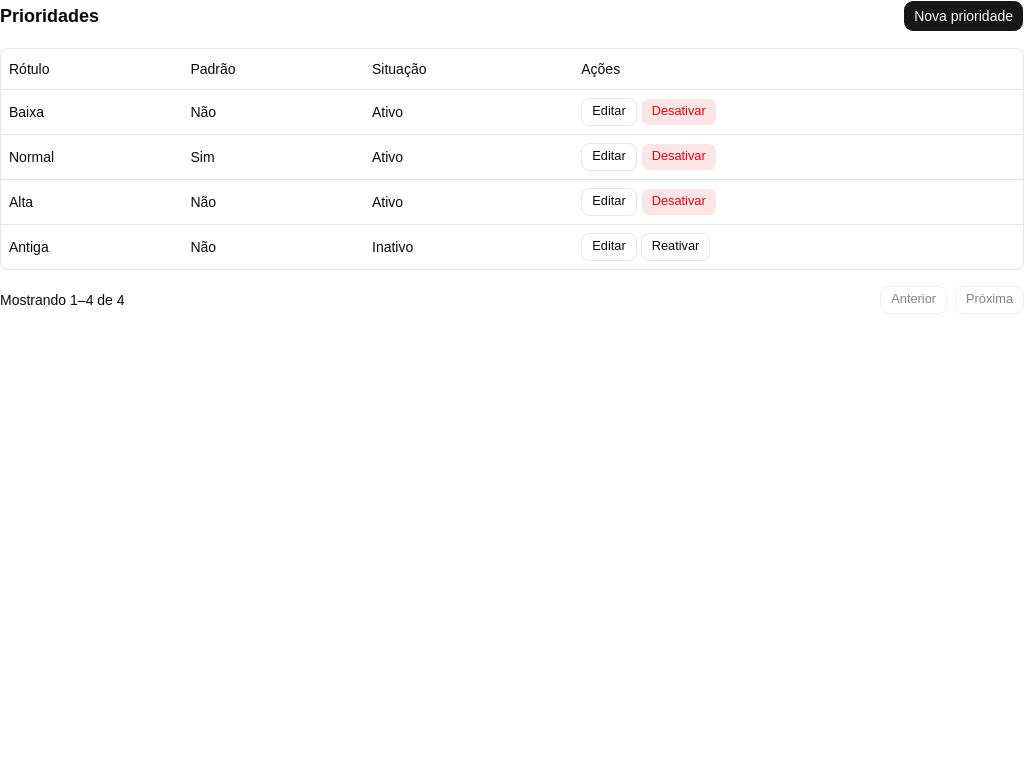
Test: PrioritiesTab and PriorityFormDialog (BR4.7) › shows the refusal to mark an inactive priority as default above the buttons
Expected: the cell "Antiga" is shown, [1,224,182,268]
Click the button with aria-label "Editar Antiga" at [609, 246], box [581,232,637,260]
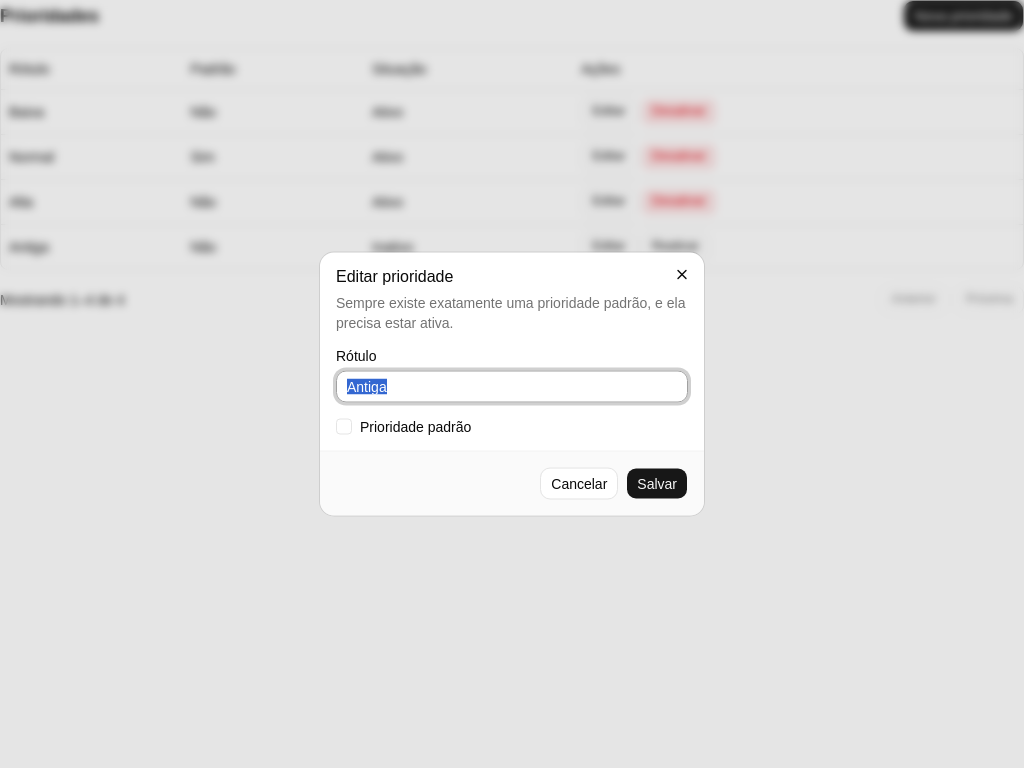
Click the checkbox named "Prioridade padrão" at [344, 426], box [336,418,352,434]
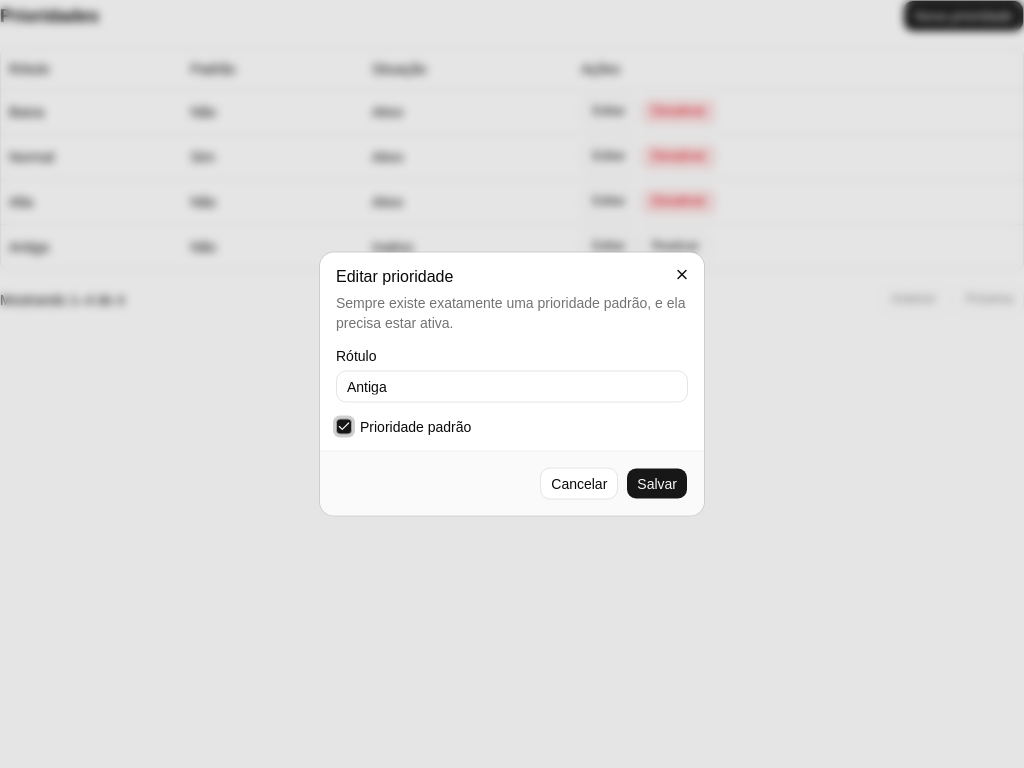
Click the button "Salvar" at [657, 484], box [626,468,688,500]
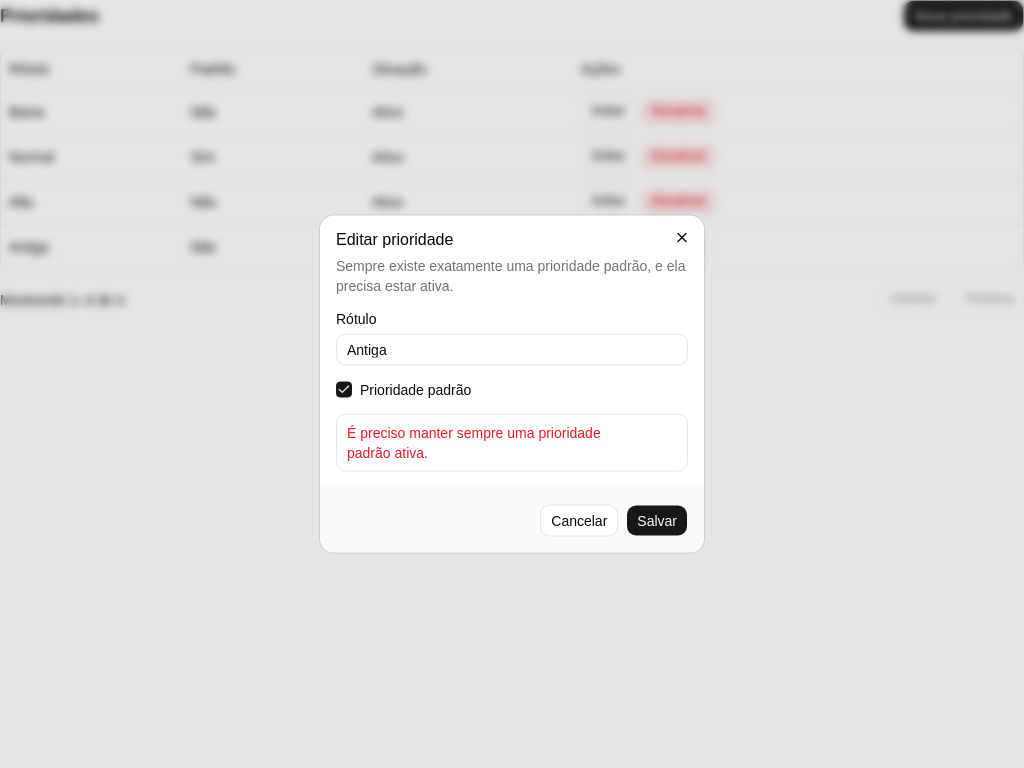
Result: the message shows "prioridade padrão ativa" at [347,424,601,460]
